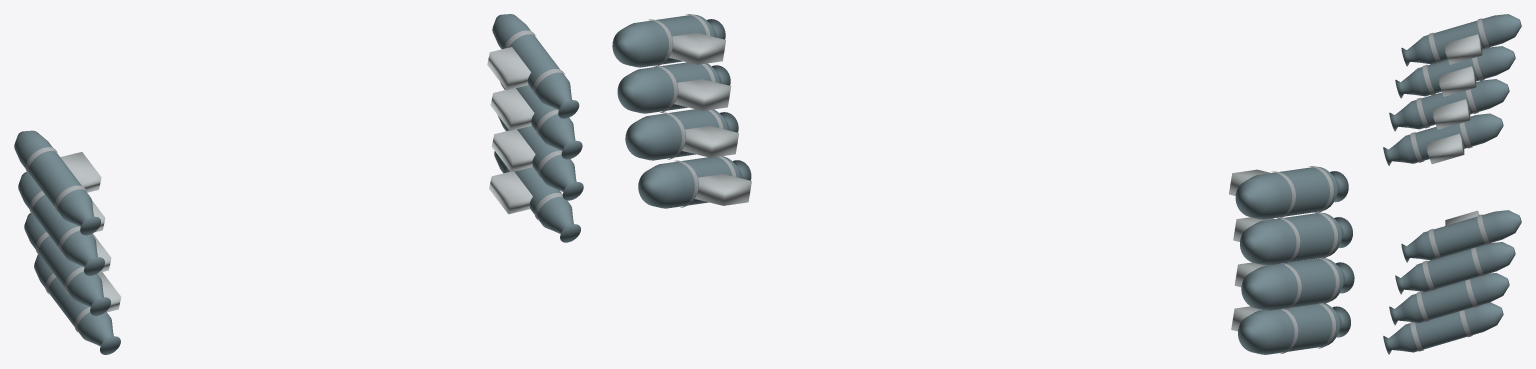
3 renders of one model, left to right at view 1: azimuth 30°, elevation 25°; view 2: azimuth 150°, elevation 25°; view 3: azimuth 270°, elevation 25°, orthographic. The views are drawn at different scales.
Visible parts, largest first — view 1: JATO_LEFT_4_BOTTLE, JATO_RIGHT_4_BOTTLE, JATO_LEFT_3_BOTTLE, JATO_LEFT_2_BOTTLE, JATO_LEFT_1_BOTTLE, JATO_RIGHT_1_BOTTLE, JATO_RIGHT_2_BOTTLE, JATO_RIGHT_3_BOTTLE, JATO_RIGHT_4_BRACKET, JATO_RIGHT_1_BRACKET, JATO_RIGHT_2_BRACKET, JATO_RIGHT_3_BRACKET (+1 smaller); view 2: JATO_LEFT_4_BOTTLE, JATO_LEFT_2_BOTTLE, JATO_LEFT_3_BOTTLE, JATO_LEFT_1_BOTTLE, JATO_RIGHT_1_BOTTLE, JATO_RIGHT_4_BOTTLE, JATO_RIGHT_2_BOTTLE, JATO_RIGHT_3_BOTTLE, JATO_RIGHT_1_BRACKET, JATO_RIGHT_3_BRACKET, JATO_RIGHT_2_BRACKET, JATO_RIGHT_4_BRACKET; view 3: JATO_RIGHT_4_BOTTLE, JATO_RIGHT_3_BOTTLE, JATO_RIGHT_2_BOTTLE, JATO_RIGHT_1_BOTTLE, JATO_LEFT_4_BOTTLE, JATO_LEFT_1_BOTTLE, JATO_LEFT_2_BOTTLE, JATO_LEFT_3_BOTTLE, JATO_LEFT_2_BRACKET, JATO_LEFT_3_BRACKET, JATO_LEFT_1_BRACKET, JATO_LEFT_4_BRACKET (+17 smaller).
Boxes of the visible parts, x1,y1,x2,y2 form: JATO_LEFT_4_BOTTLE: (14, 130, 100, 235); JATO_RIGHT_4_BOTTLE: (492, 14, 579, 118); JATO_LEFT_3_BOTTLE: (18, 172, 104, 275); JATO_LEFT_2_BOTTLE: (24, 213, 110, 315); JATO_LEFT_1_BOTTLE: (34, 254, 120, 354); JATO_RIGHT_1_BOTTLE: (494, 151, 580, 242); JATO_RIGHT_2_BOTTLE: (498, 116, 583, 200); JATO_RIGHT_3_BOTTLE: (500, 82, 582, 159); JATO_RIGHT_4_BRACKET: (487, 47, 530, 90); JATO_RIGHT_1_BRACKET: (489, 171, 532, 214); JATO_RIGHT_2_BRACKET: (491, 129, 535, 172); JATO_RIGHT_3_BRACKET: (490, 88, 534, 130); JATO_LEFT_4_BOTTLE: (1235, 166, 1348, 219); JATO_LEFT_2_BOTTLE: (1241, 258, 1354, 310); JATO_LEFT_3_BOTTLE: (1240, 213, 1352, 265); JATO_LEFT_1_BOTTLE: (1238, 303, 1350, 354); JATO_RIGHT_1_BOTTLE: (638, 156, 751, 208); JATO_RIGHT_4_BOTTLE: (612, 14, 725, 67); JATO_RIGHT_2_BOTTLE: (625, 109, 738, 160); JATO_RIGHT_3_BOTTLE: (617, 62, 730, 113); JATO_RIGHT_1_BRACKET: (695, 174, 751, 205); JATO_RIGHT_3_BRACKET: (674, 79, 731, 110); JATO_RIGHT_2_BRACKET: (682, 126, 738, 157); JATO_RIGHT_4_BRACKET: (669, 33, 725, 64); JATO_RIGHT_4_BOTTLE: (1401, 210, 1521, 262); JATO_RIGHT_3_BOTTLE: (1395, 242, 1515, 294); JATO_RIGHT_2_BOTTLE: (1389, 273, 1509, 325); JATO_RIGHT_1_BOTTLE: (1383, 302, 1503, 354); JATO_LEFT_4_BOTTLE: (1401, 14, 1521, 66); JATO_LEFT_1_BOTTLE: (1383, 113, 1503, 165); JATO_LEFT_2_BOTTLE: (1389, 79, 1509, 131); JATO_LEFT_3_BOTTLE: (1395, 46, 1515, 98); JATO_LEFT_2_BRACKET: (1433, 99, 1470, 129); JATO_LEFT_3_BRACKET: (1439, 66, 1476, 96); JATO_LEFT_1_BRACKET: (1427, 133, 1464, 164); JATO_LEFT_4_BRACKET: (1445, 34, 1482, 64).
Size of what is drawn, in the model's own units: 4.92 by 1.61 by 1.37.
